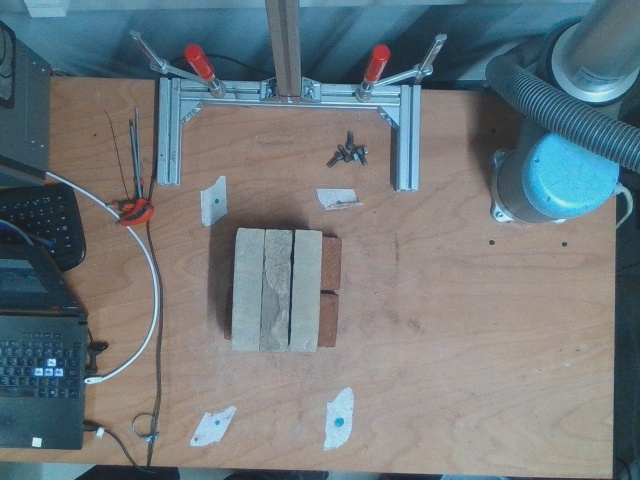brick-side: (257, 230, 293, 353), (287, 230, 323, 353), (230, 229, 265, 352)
